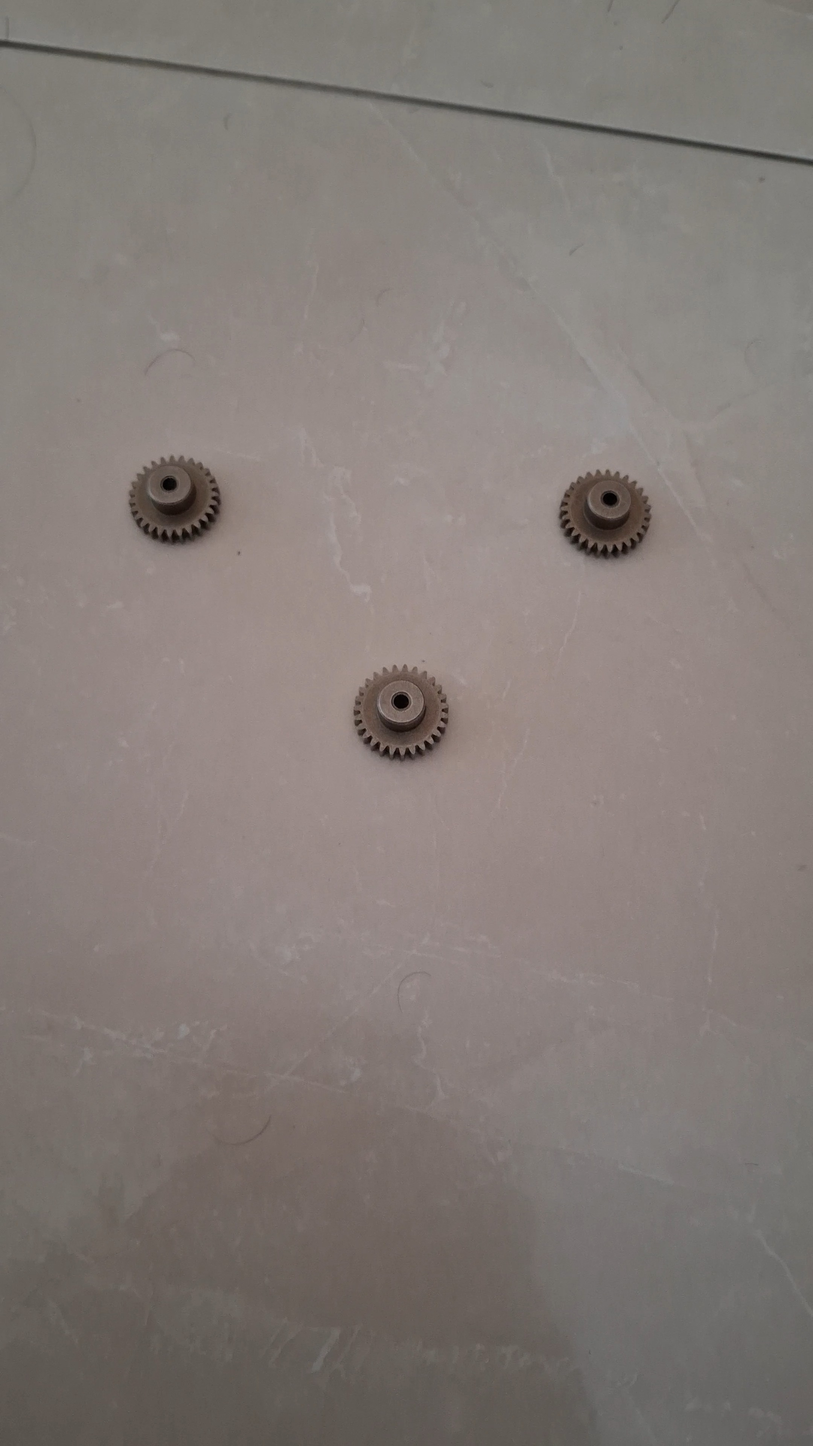spur gear: (354, 665, 448, 757), (129, 457, 220, 542), (559, 471, 650, 555)
